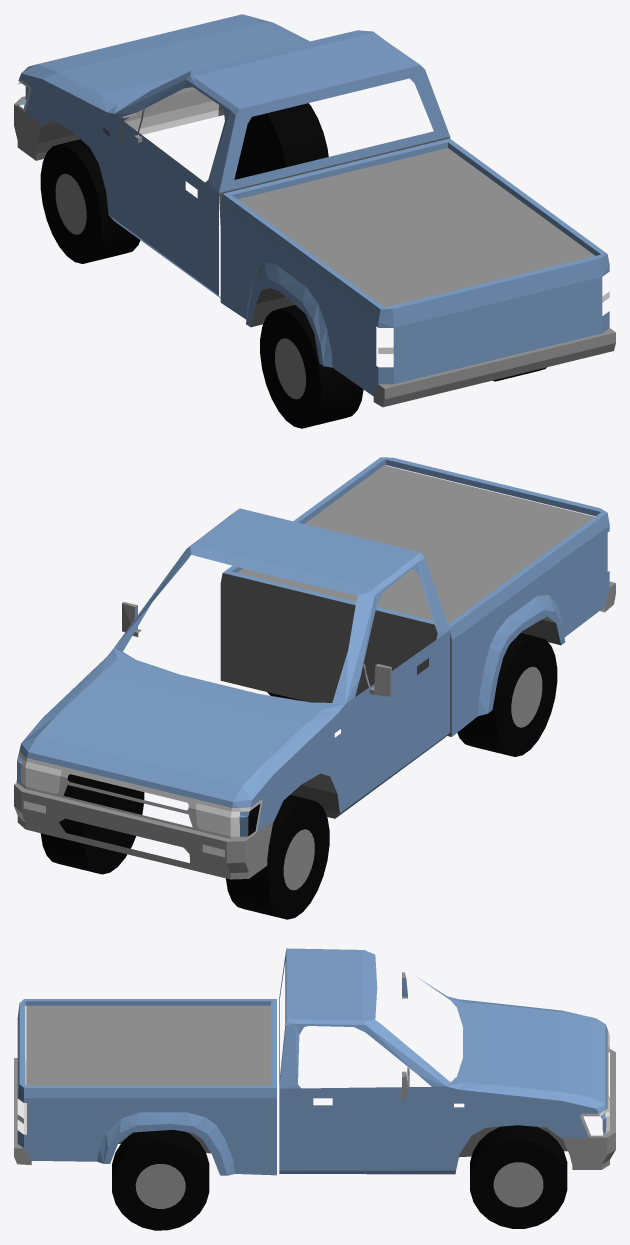
Rendered from hilux.glb.
3 renders of one model, top to bottom at view 1: azimuth 30°, elevation 25°; view 2: azimuth 150°, elevation 25°; view 3: azimuth 270°, elevation 25°, orthographic. The views are drawn at different scales.
Visible parts, largest first — view 1: body:M_0042_Sienna, body:M_0135_DarkGray, wm (×5), body:FrontColor, body:M_0136_Charcoal; view 2: body:M_0042_Sienna, body:M_0135_DarkGray, wm (×5), body:M_0136_Charcoal, body:M_0129_WhiteSmoke, body:FrontColor; view 3: body:M_0042_Sienna, body:M_0135_DarkGray, wm (×4), body:M_0136_Charcoal, body:FrontColor, body:M_0129_WhiteSmoke.
Boxes of the visible parts, bbox=[...] form: body:M_0042_Sienna: bbox=[17, 14, 609, 396]; body:M_0135_DarkGray: bbox=[14, 96, 615, 407]; wm (×5): bbox=[40, 103, 363, 428]; body:FrontColor: bbox=[124, 87, 609, 353]; body:M_0136_Charcoal: bbox=[36, 105, 450, 327]; body:M_0042_Sienna: bbox=[17, 457, 609, 836]; body:M_0135_DarkGray: bbox=[14, 465, 615, 879]; wm (×5): bbox=[40, 633, 557, 919]; body:M_0136_Charcoal: bbox=[220, 573, 560, 818]; body:M_0129_WhiteSmoke: bbox=[16, 751, 262, 838]; body:FrontColor: bbox=[21, 607, 604, 857]; body:M_0042_Sienna: bbox=[17, 948, 609, 1175]; body:M_0135_DarkGray: bbox=[14, 972, 615, 1169]; wm (×4): bbox=[112, 1125, 567, 1230]; body:M_0136_Charcoal: bbox=[118, 1126, 567, 1157]; body:FrontColor: bbox=[17, 1031, 609, 1134]; body:M_0129_WhiteSmoke: bbox=[580, 1029, 609, 1137].
Bounding box in the file's own units: 1.91 × 1.7 × 4.63.
